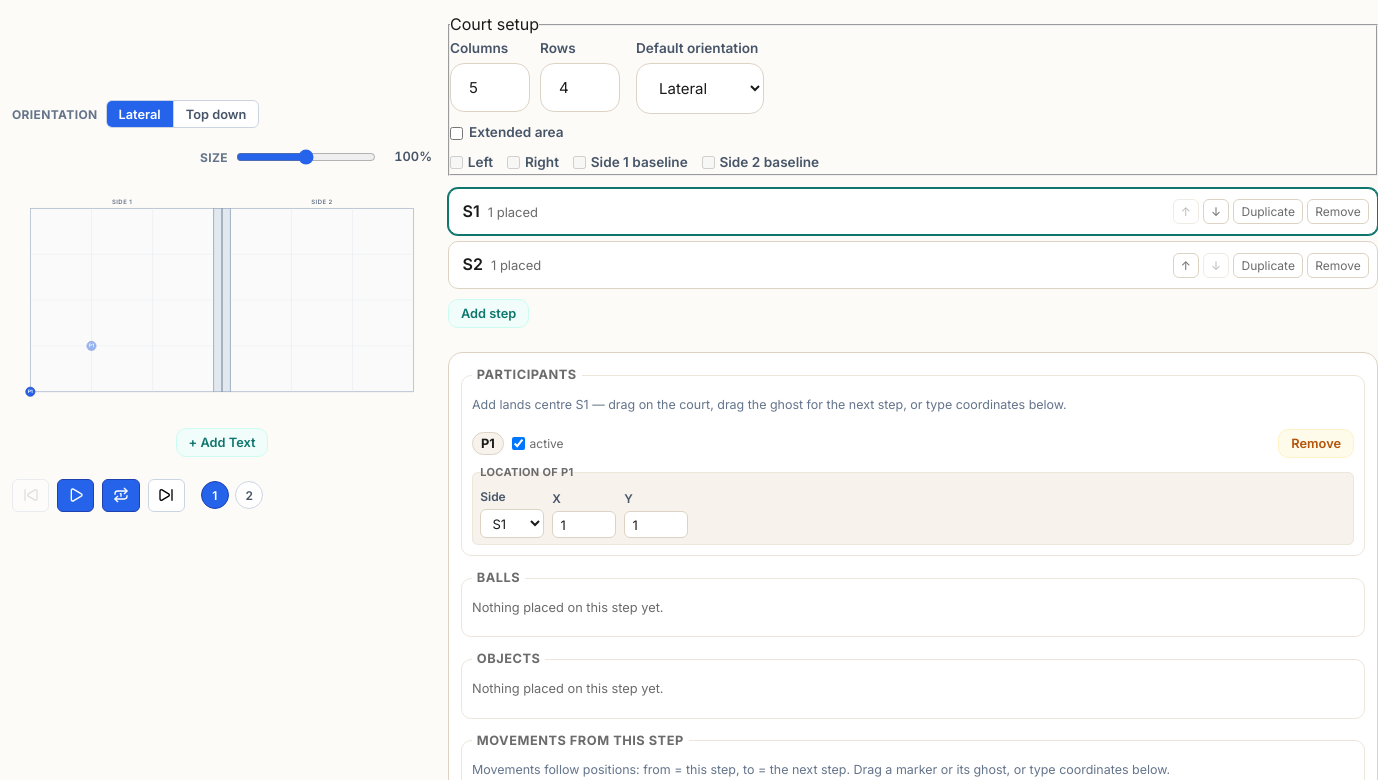
Scenario: DrillDefinitionBuilder — visualisation controls › moves the edit cursor with prev/next
Check: the button named "Previous step" is disabled, box [12,479,49,512]
What coordinates should you click on to do the following:
click the button named "Next step"
I would click on:
 (166, 496)
Its box is [148,479,185,512].
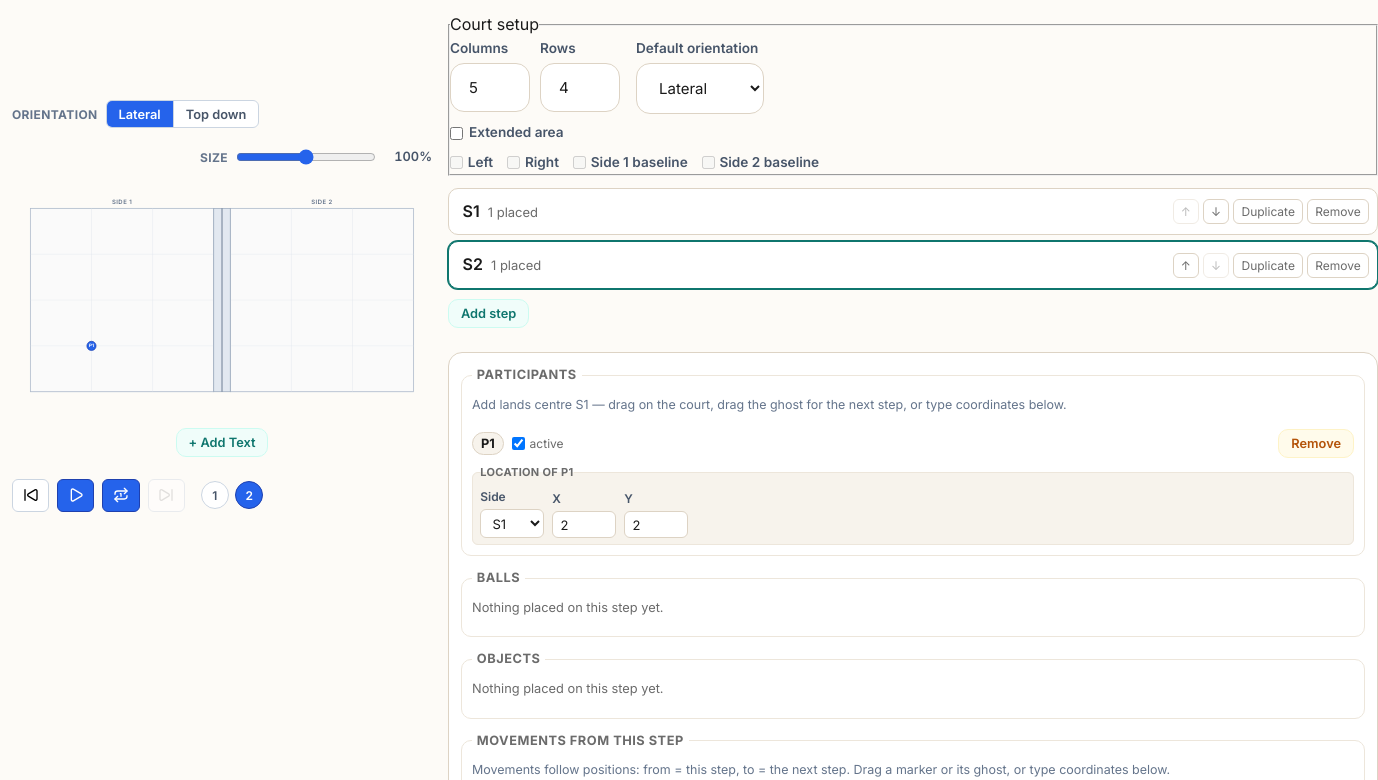
Check: the button named "Next step" is disabled, box [148,479,185,512]
Check: the button named "Previous step" is enabled, box [12,479,49,512]
